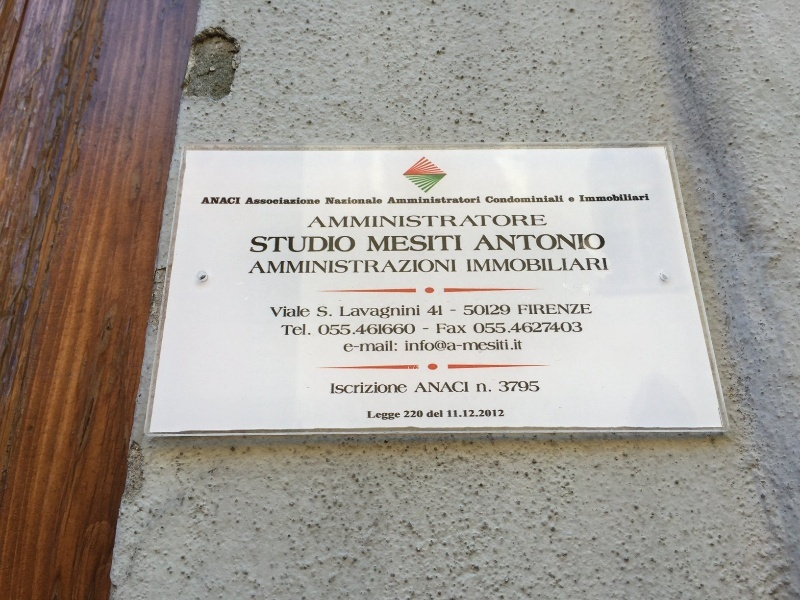text: (257, 234, 272, 254), (273, 234, 288, 254), (289, 234, 304, 254), (305, 234, 320, 254), (321, 234, 336, 254), (337, 234, 352, 254), (369, 234, 384, 254), (385, 234, 400, 254), (401, 234, 416, 254), (417, 234, 432, 254), (433, 234, 448, 254), (449, 234, 464, 254), (353, 304, 368, 322), (369, 304, 384, 322), (385, 304, 400, 322), (401, 304, 416, 322), (497, 234, 512, 251), (513, 234, 528, 251), (529, 234, 544, 251), (545, 234, 560, 251), (561, 234, 576, 251), (577, 234, 592, 251), (339, 304, 352, 322), (481, 320, 496, 335), (497, 320, 512, 335), (513, 320, 528, 335), (529, 320, 544, 335), (545, 320, 560, 335), (561, 320, 576, 335), (273, 304, 288, 319), (289, 304, 304, 319), (257, 259, 272, 274), (273, 259, 288, 274), (289, 259, 304, 274), (305, 259, 320, 274), (321, 259, 336, 274), (337, 259, 352, 274), (353, 259, 368, 274), (369, 259, 384, 274), (385, 259, 400, 274), (401, 259, 416, 274), (417, 259, 432, 274), (433, 259, 448, 274), (483, 234, 496, 251), (593, 234, 606, 251), (433, 380, 448, 394), (449, 380, 464, 394), (497, 379, 512, 393), (513, 379, 528, 393), (417, 339, 432, 353), (433, 339, 448, 353), (449, 339, 464, 353), (465, 339, 480, 353), (481, 339, 496, 353), (497, 339, 512, 353), (577, 303, 593, 316), (401, 323, 417, 336), (337, 382, 352, 395), (353, 382, 368, 395), (369, 382, 384, 395), (385, 382, 400, 395), (353, 340, 368, 353), (369, 340, 384, 353), (529, 303, 544, 316), (545, 303, 560, 316), (561, 303, 576, 316), (481, 258, 496, 271), (497, 258, 512, 271), (513, 258, 528, 271), (529, 258, 544, 271), (545, 258, 560, 271), (561, 258, 576, 271), (577, 258, 592, 271), (593, 258, 608, 271), (321, 323, 336, 336), (337, 323, 352, 336), (353, 323, 368, 336), (369, 323, 384, 336), (385, 323, 400, 336), (385, 410, 401, 422), (419, 380, 432, 394), (466, 258, 480, 271), (369, 410, 384, 422), (321, 215, 336, 227), (337, 215, 352, 227), (353, 215, 368, 227), (369, 215, 384, 227), (385, 215, 400, 227), (401, 215, 416, 227), (417, 215, 432, 227), (433, 215, 448, 227), (449, 215, 464, 227), (465, 215, 480, 227), (481, 215, 496, 227), (497, 215, 512, 227), (513, 215, 528, 227), (529, 215, 544, 227), (465, 304, 480, 316), (481, 304, 496, 316), (449, 323, 464, 335), (529, 379, 541, 393), (404, 339, 416, 353), (321, 305, 333, 319), (497, 304, 511, 316), (289, 325, 304, 336), (385, 340, 397, 353), (516, 303, 528, 316), (433, 304, 445, 317), (513, 339, 524, 353), (449, 408, 464, 418), (465, 408, 480, 418), (481, 408, 496, 418), (593, 193, 608, 203), (609, 193, 624, 203), (625, 193, 640, 203), (465, 196, 481, 205), (436, 323, 448, 335), (578, 193, 592, 203), (401, 196, 416, 205), (417, 196, 432, 205), (433, 196, 448, 205), (449, 196, 464, 205), (497, 195, 512, 204), (513, 195, 528, 204), (529, 195, 544, 204), (545, 195, 560, 204), (305, 197, 321, 205), (481, 382, 492, 393), (472, 320, 480, 335), (209, 197, 224, 205), (225, 197, 240, 205), (257, 197, 272, 205), (273, 197, 288, 205), (289, 197, 304, 205), (337, 197, 352, 205), (353, 197, 368, 205), (403, 410, 416, 419), (369, 197, 383, 205), (577, 320, 584, 335), (449, 259, 456, 274), (344, 340, 352, 353), (641, 193, 651, 203), (433, 409, 444, 418), (389, 196, 400, 205), (485, 195, 496, 204), (324, 197, 336, 205), (401, 382, 408, 395), (497, 408, 506, 418), (305, 304, 311, 319), (280, 325, 288, 336), (252, 234, 256, 254), (330, 382, 336, 395), (417, 304, 421, 322), (465, 380, 470, 394), (248, 197, 256, 205), (417, 410, 424, 419), (353, 234, 356, 254), (316, 305, 320, 319), (305, 325, 310, 336), (426, 409, 432, 418), (567, 197, 576, 203), (428, 304, 432, 317), (269, 304, 272, 319), (476, 382, 480, 393), (450, 309, 464, 312), (317, 215, 320, 227), (545, 215, 548, 227), (561, 195, 565, 204), (465, 323, 468, 335), (204, 197, 208, 205), (423, 327, 432, 330), (318, 323, 320, 336), (366, 410, 368, 422), (367, 234, 368, 254), (447, 408, 448, 418), (241, 197, 242, 205)
